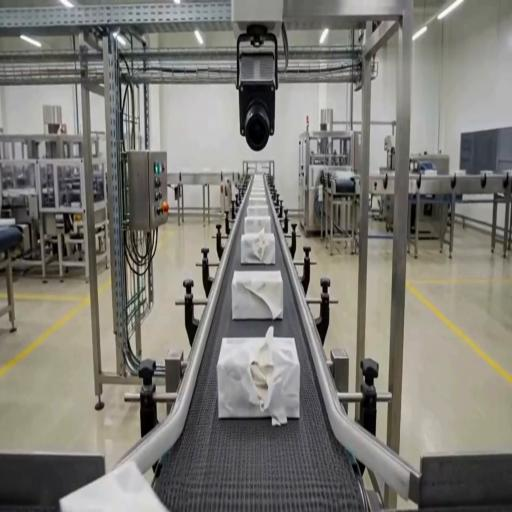defective: (217, 330, 300, 421), (231, 269, 284, 320), (240, 229, 276, 265)
good: (59, 459, 171, 510), (246, 177, 270, 205), (244, 216, 272, 234), (246, 205, 270, 219)
